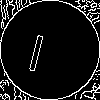I: (25, 25, 50, 73)
